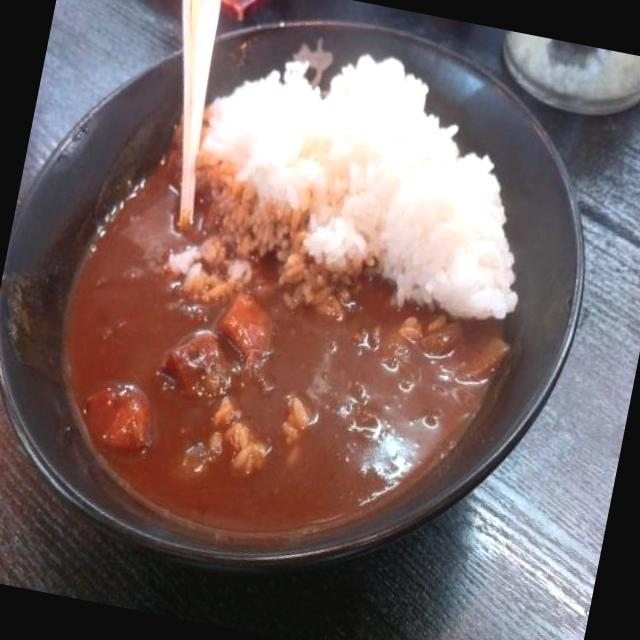Beef Curry: (9, 190, 508, 582)
Rice: (192, 22, 546, 318)
